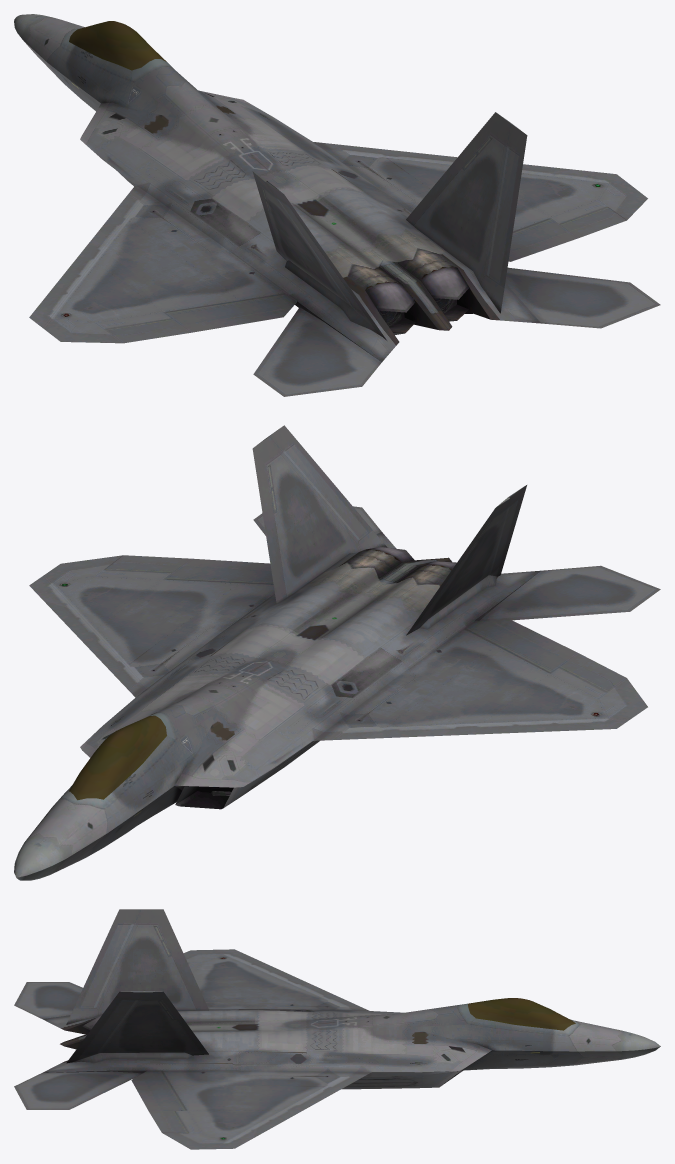
Rendered from Raptor.fbx.
3 renders of one model, top to bottom at view 1: azimuth 30°, elevation 25°; view 2: azimuth 150°, elevation 25°; view 3: azimuth 270°, elevation 25°, orthographic. The views are drawn at different scales.
Visible parts, largest first — view 1: LOD0; view 2: LOD0; view 3: LOD0.
Boxes of the visible parts, <box> form: LOD0: <box>14,14,660,396</box>; LOD0: <box>14,425,660,880</box>; LOD0: <box>14,909,660,1149</box>.
Size of the model in its own units: 13.75 by 3.97 by 18.86.
Materials: 1 (1 with a texture image).
